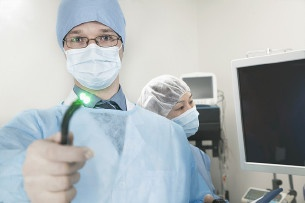Mask: (61, 25, 125, 89)
